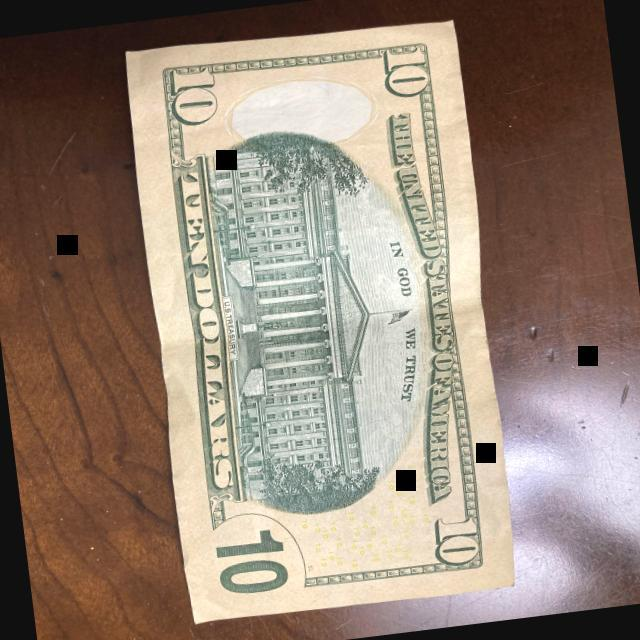ten: (121, 9, 524, 629)
